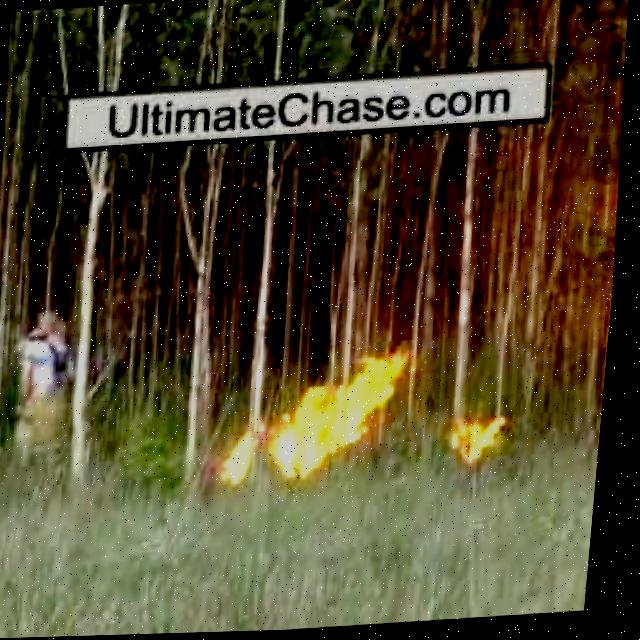Fire: (277, 344, 416, 485), (222, 423, 277, 498), (453, 420, 520, 470)
